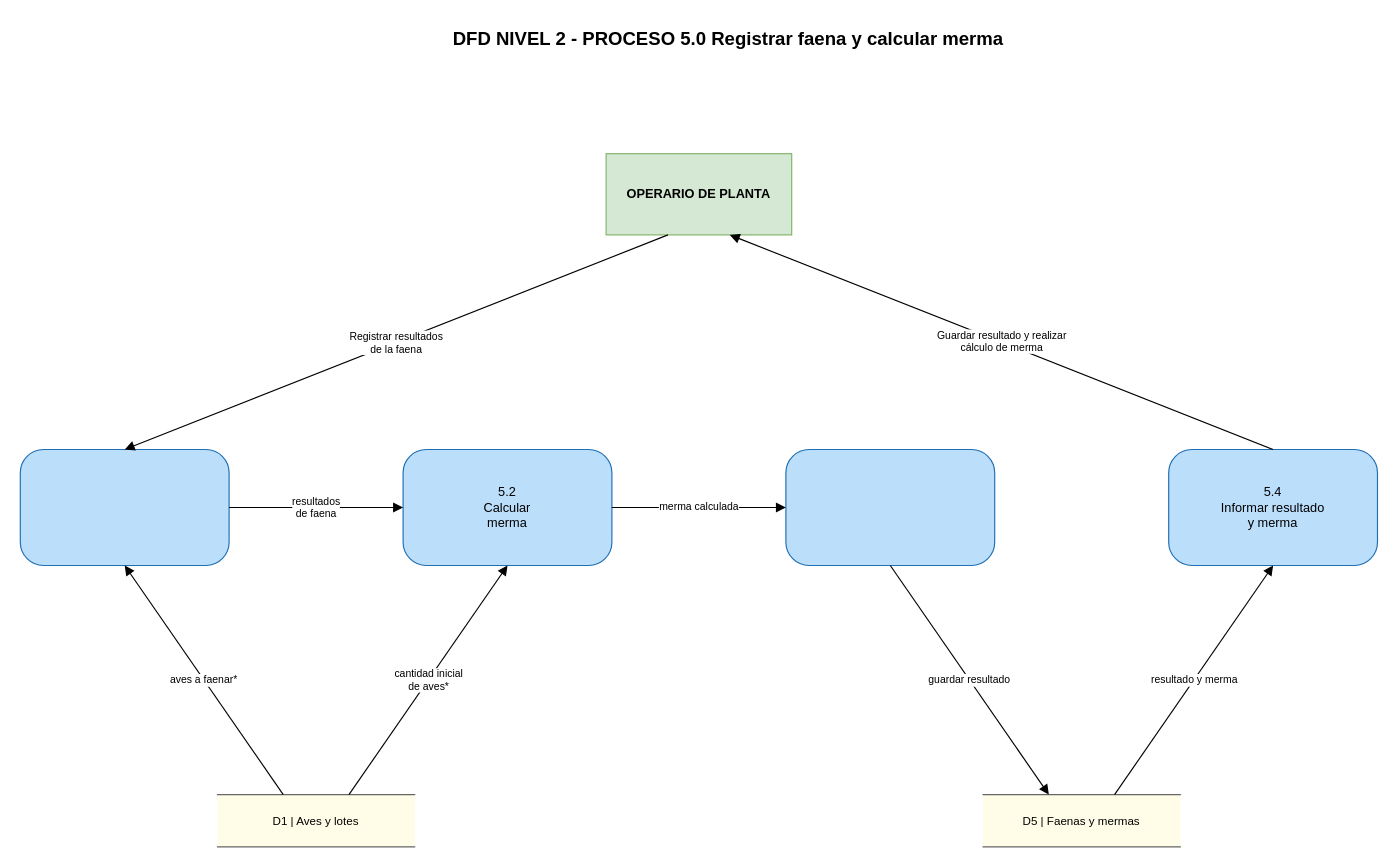
Image size: 1398x867. Some labels were removed from this diagram. Here are the shapes that lost their labels. From the top down, the centre of each, then its label:
At [124,507]: "5.1 Registrar resultados de la faena".
At [890,507]: "5.3 Guardar resultado y merma".
